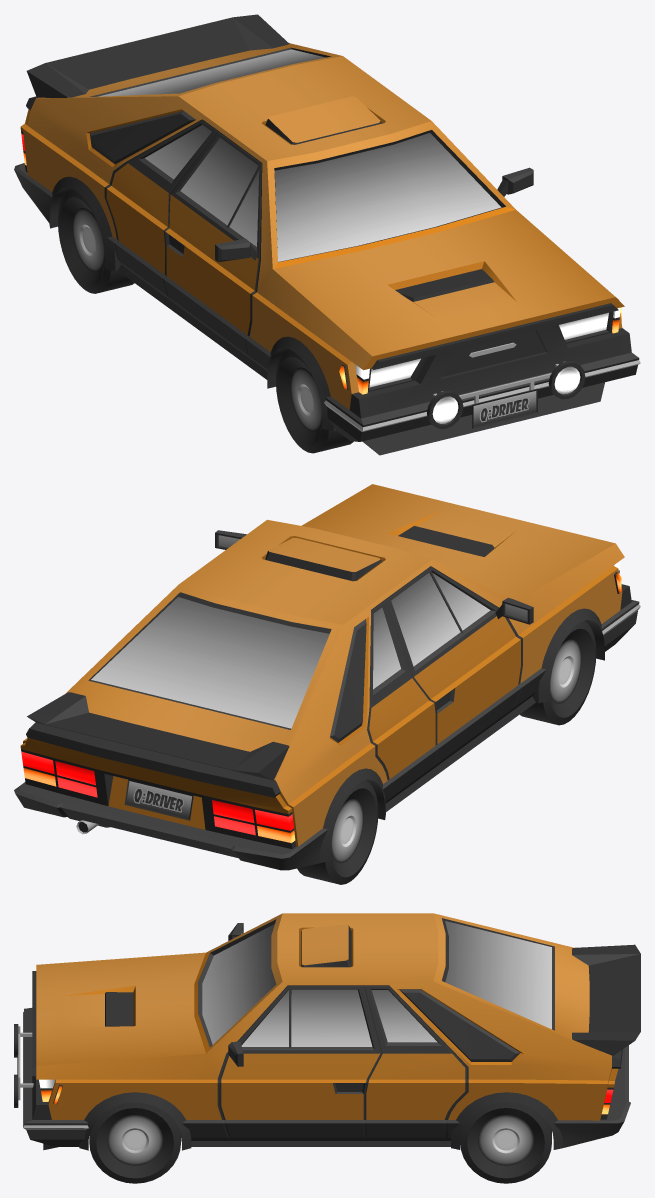
The model's file is car1_4door.fbx.
3 renders of one model, top to bottom at view 1: azimuth 30°, elevation 25°; view 2: azimuth 150°, elevation 25°; view 3: azimuth 270°, elevation 25°, orthographic. The views are drawn at different scales.
Parts seen in each view (by area): view 1: Car, Door_F_R, Door_B_R, Wheel_B_R, Wheel_F_R, Door_F_L; view 2: Car, Door_F_R, Door_B_R, Wheel_B_R, Wheel_F_R; view 3: Car, Door_F_L, Door_B_L, Wheel_B_L, Wheel_F_L.
Boxes of the visible parts, left/top/right/bottom form: Car: left=14, top=14, right=640, bottom=455; Door_F_R: left=163, top=131, right=261, bottom=359; Door_B_R: left=106, top=120, right=217, bottom=300; Wheel_B_R: left=58, top=189, right=134, bottom=293; Wheel_F_R: left=276, top=349, right=353, bottom=453; Door_F_L: left=497, top=167, right=533, bottom=196; Car: left=14, top=484, right=640, bottom=870; Door_F_R: left=386, top=567, right=533, bottom=770; Door_B_R: left=368, top=600, right=438, bottom=803; Wheel_B_R: left=297, top=780, right=378, bottom=884; Wheel_F_R: left=520, top=621, right=596, bottom=725; Car: left=14, top=913, right=640, bottom=1150; Door_F_L: left=219, top=986, right=381, bottom=1140; Door_B_L: left=363, top=986, right=466, bottom=1140; Wheel_B_L: left=460, top=1102, right=551, bottom=1183; Wheel_F_L: left=89, top=1102, right=181, bottom=1183.
Bounding box in the file's own units: 311 × 206 × 628.
